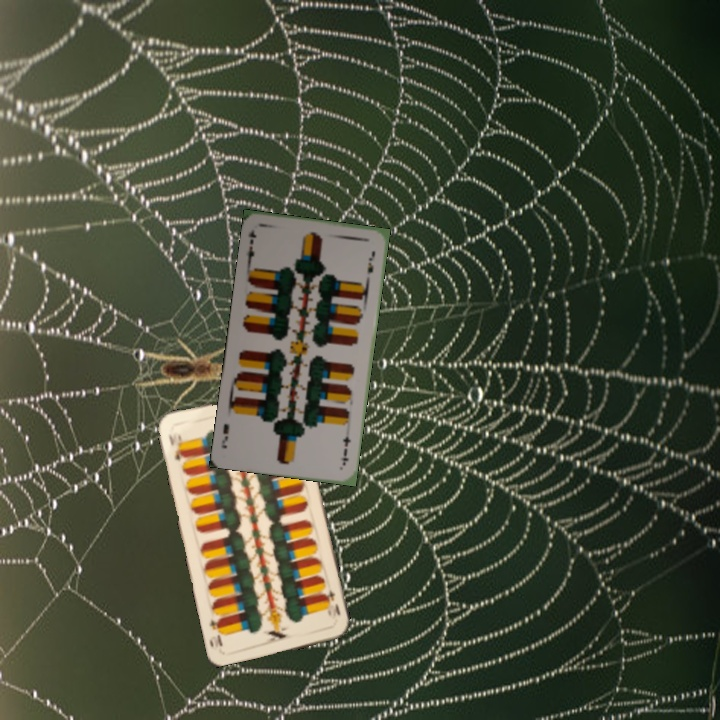E10: (320, 586, 343, 618), (165, 430, 186, 463)
E7: (243, 225, 259, 266), (336, 432, 353, 468)
